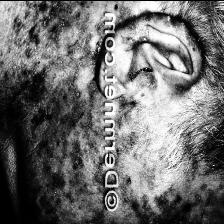Potentially Malignant Skin Tumors: (7, 0, 98, 224), (120, 80, 189, 224), (116, 4, 197, 48)
